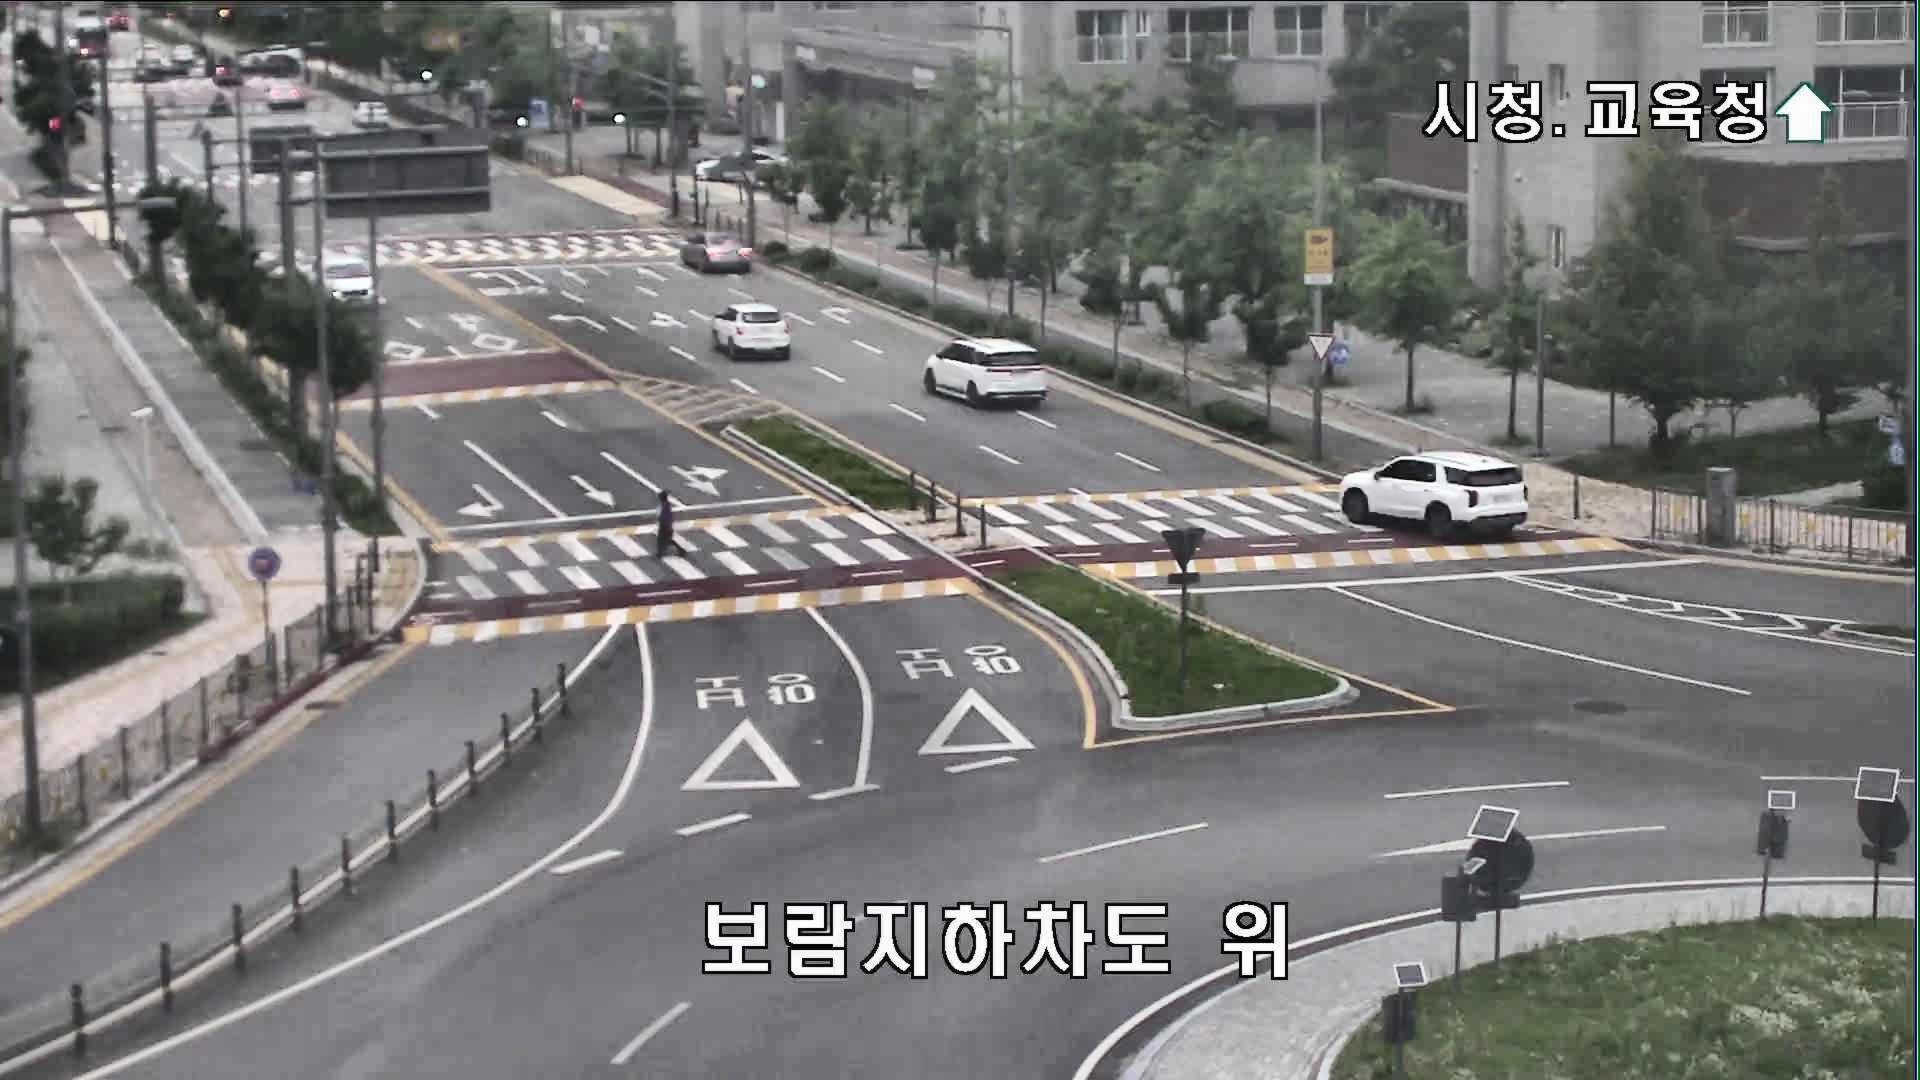crosswalk: (647, 489, 684, 562)
